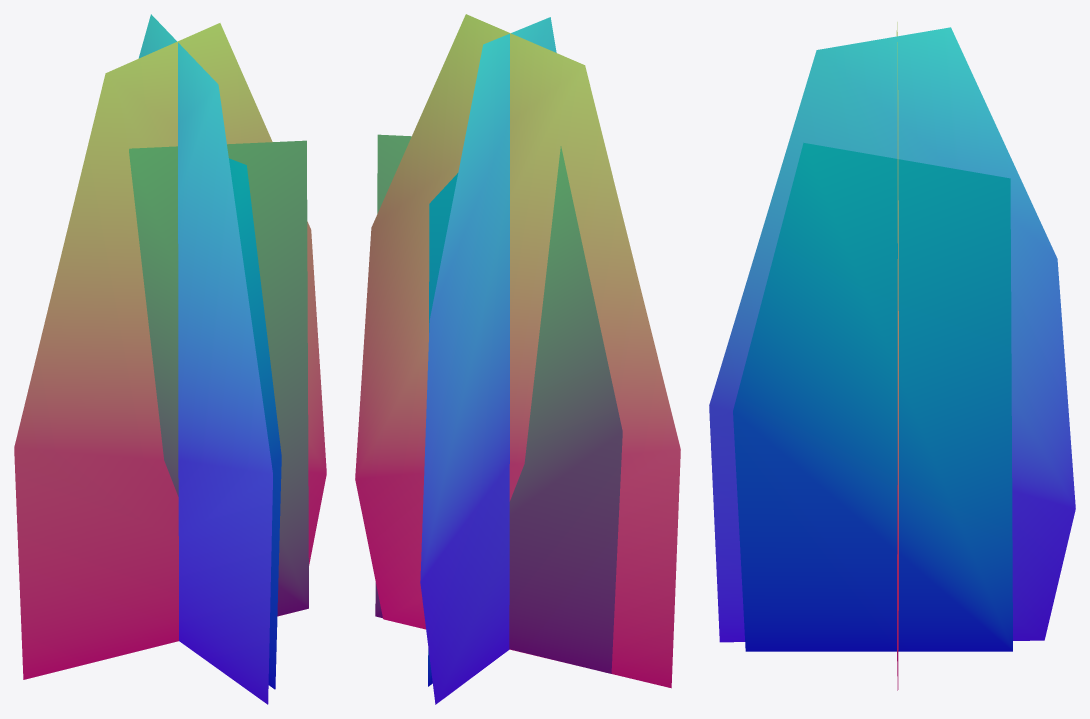
File: Grass.fbx
3 renders of one model, left to right at view 1: azimuth 30°, elevation 25°; view 2: azimuth 150°, elevation 25°; view 3: azimuth 270°, elevation 25°, orthographic. The views are drawn at different scales.
Visible parts, largest first — view 1: Grass1_1, Grass1_2; view 2: Grass1_1, Grass1_2; view 3: Grass1_2, Grass1_1.
Boxes of the visible parts, <box> form: Grass1_1: <box>14,14,326,704</box>; Grass1_2: <box>129,140,308,689</box>; Grass1_1: <box>355,14,680,704</box>; Grass1_2: <box>375,134,622,686</box>; Grass1_2: <box>733,142,1012,651</box>; Grass1_1: <box>709,22,1075,690</box>.
Bounding box in the file's own units: 20.52 × 37.88 × 20.52.
